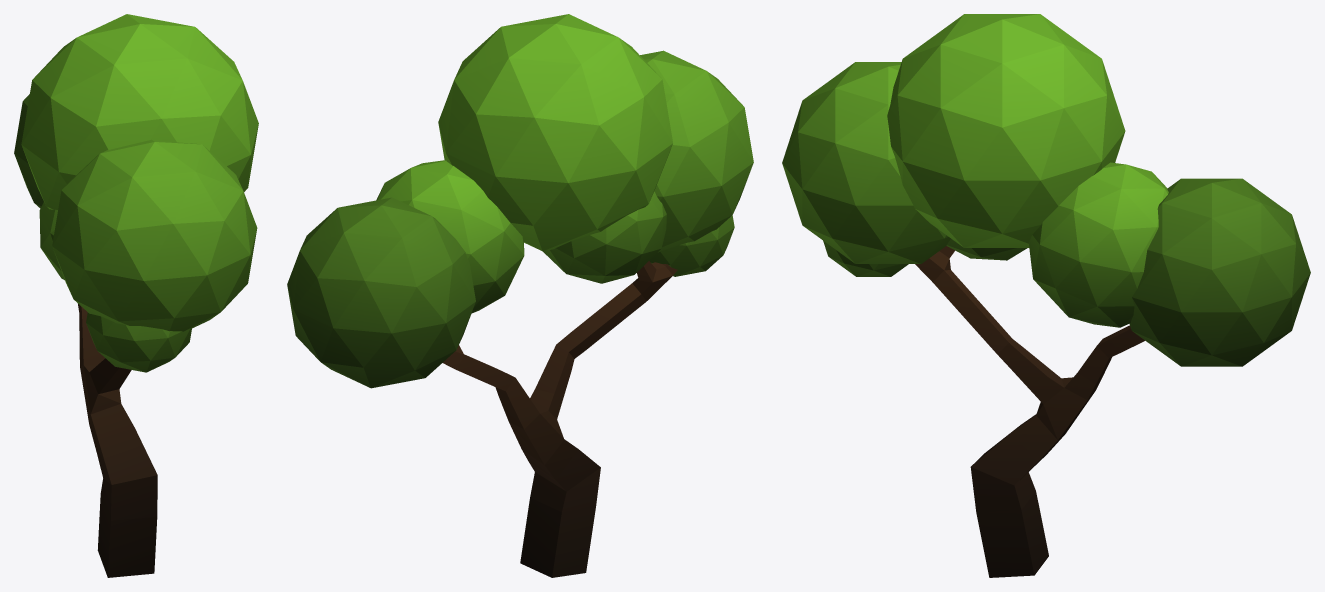
File: Arvore4.fbx
3 renders of one model, left to right at view 1: azimuth 30°, elevation 25°; view 2: azimuth 150°, elevation 25°; view 3: azimuth 270°, elevation 25°, orthographic. The views are drawn at different scales.
Visible parts, largest first — view 1: Cube; view 2: Cube; view 3: Cube.
Part boxes in pixels (left/top/right/bottom): Cube: left=14, top=14, right=258, bottom=577; Cube: left=287, top=14, right=753, bottom=577; Cube: left=782, top=14, right=1310, bottom=577.
Size of the model in its own units: 952 by 592 by 1101.
Materials: 2 (2 with a texture image).
